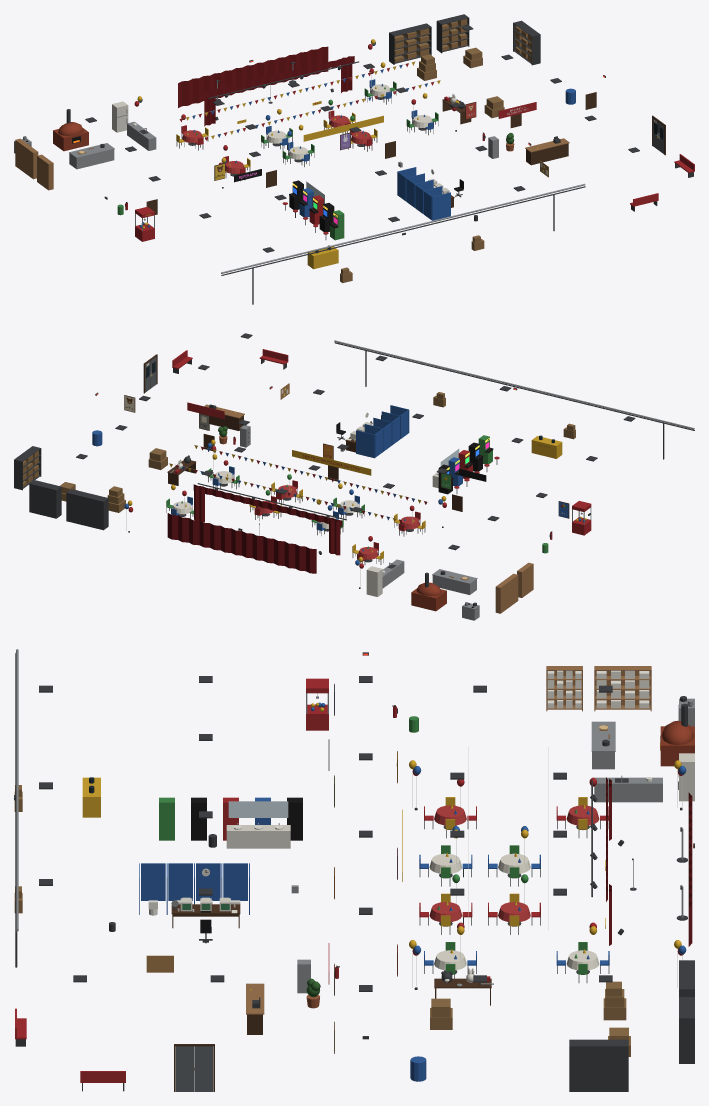
The model's file is moveis.glb.
The picture shows the model from 3 angles, top to bottom: view 1: azimuth 30°, elevation 25°; view 2: azimuth 150°, elevation 25°; view 3: azimuth 270°, elevation 25°; orthographic projection. The views are drawn at different scales.
Visible parts, largest first — view 1: Palco_Cortina, Cabine_Divisorias, Palco_Sanefa, Cano_Fundos_01, Estante_Deposito_01_Itens, Bancada_Central, Estante_Deposito_01, Estante_Deposito_03, Prateleira_Cozinha_01, Cano_Fundos_02, Estante_Deposito_02, Estante_Deposito_02_Itens (+8 smaller); view 2: Palco_Cortina, Estante_Deposito_01, Estante_Deposito_02, Cabine_Divisorias, Palco_Sanefa, Cano_Fundos_01, Bancada_Central, Prateleira_Cozinha_01, Estante_Deposito_03, Cano_Fundos_02, Faixa_Decorativa, Balcao_Premios (+4 smaller); view 3: Estante_Deposito_03, Bancada_Pia, Bancada_Pias, Prateleira_Cozinha_01_Itens, Prateleira_Cozinha_01, Bancada_Central, Estante_Deposito_02, Espelho_Banheiro, Prateleira_Cozinha_02_Itens, Cabine_Porta_04, Prateleira_Cozinha_02, Cabine_Porta_01 (+14 smaller).
Part boxes in pixels (x1,y1,x2,y2): Palco_Cortina: [178, 46, 328, 107]; Cabine_Divisorias: [397, 167, 450, 220]; Palco_Sanefa: [204, 56, 354, 99]; Cano_Fundos_01: [221, 183, 585, 273]; Estante_Deposito_01_Itens: [394, 28, 429, 62]; Bancada_Central: [69, 143, 114, 169]; Estante_Deposito_01: [389, 23, 431, 64]; Estante_Deposito_03: [513, 20, 540, 65]; Prateleira_Cozinha_01: [15, 138, 38, 179]; Cano_Fundos_02: [221, 186, 585, 275]; Estante_Deposito_02: [436, 14, 469, 53]; Estante_Deposito_02_Itens: [442, 19, 467, 50]; Palco_Cortina: [167, 513, 316, 573]; Estante_Deposito_01: [66, 489, 108, 530]; Estante_Deposito_02: [29, 480, 61, 518]; Cabine_Divisorias: [356, 405, 409, 458]; Palco_Sanefa: [193, 484, 342, 526]; Cano_Fundos_01: [334, 340, 694, 429]; Bancada_Central: [432, 569, 477, 594]; Prateleira_Cozinha_01: [495, 573, 518, 613]; Estante_Deposito_03: [14, 446, 41, 490]; Cano_Fundos_02: [334, 342, 694, 430]; Faixa_Decorativa: [292, 450, 371, 475]; Balcao_Premios: [531, 436, 562, 458]; Estante_Deposito_03: [569, 1039, 628, 1091]; Bancada_Pia: [594, 777, 662, 802]; Bancada_Pias: [226, 825, 290, 848]; Prateleira_Cozinha_01_Itens: [596, 670, 649, 708]; Prateleira_Cozinha_01: [594, 666, 651, 711]; Bancada_Central: [591, 721, 615, 769]; Estante_Deposito_02: [679, 997, 694, 1063]; Espelho_Banheiro: [228, 801, 288, 817]; Prateleira_Cozinha_02_Itens: [547, 670, 581, 708]; Cabine_Porta_04: [141, 863, 165, 900]; Prateleira_Cozinha_02: [546, 666, 582, 711]; Cabine_Porta_01: [223, 863, 247, 900].
Size of what is drawn, in the model's own units: 39.8 by 3.2 by 29.8.
